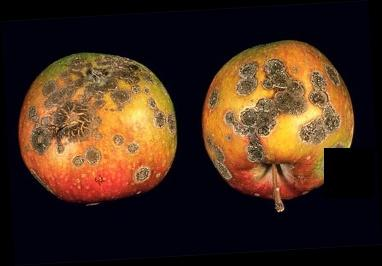rotten apple: (16, 48, 180, 214), (200, 38, 358, 204)
